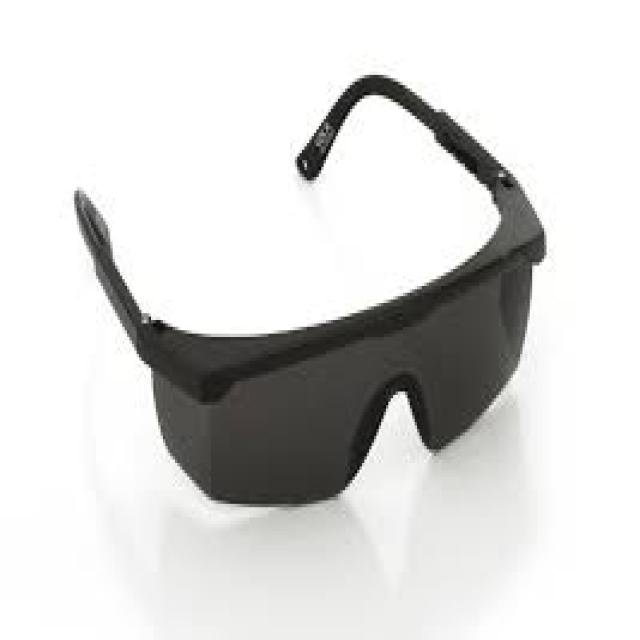oculos-epi: (74, 75, 544, 504)
